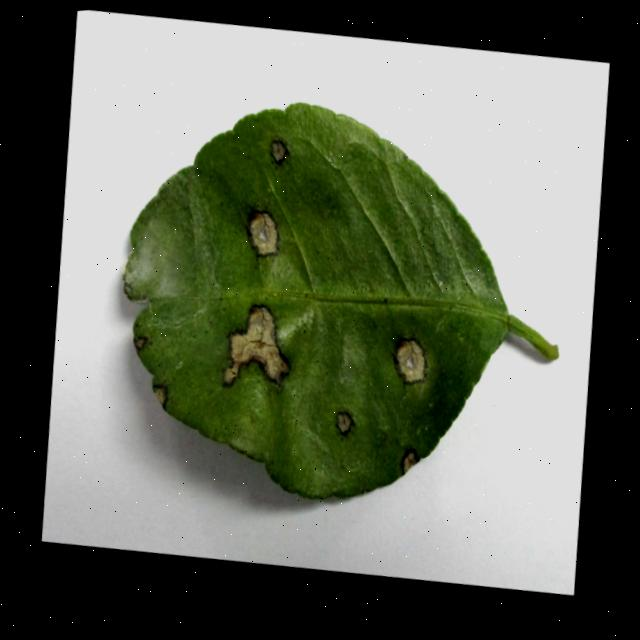antracnose: (122, 103, 557, 497), (222, 304, 289, 387), (395, 339, 425, 382), (248, 211, 277, 255), (335, 409, 354, 434), (401, 448, 418, 474), (152, 383, 167, 408), (270, 139, 286, 162), (133, 336, 147, 349)
